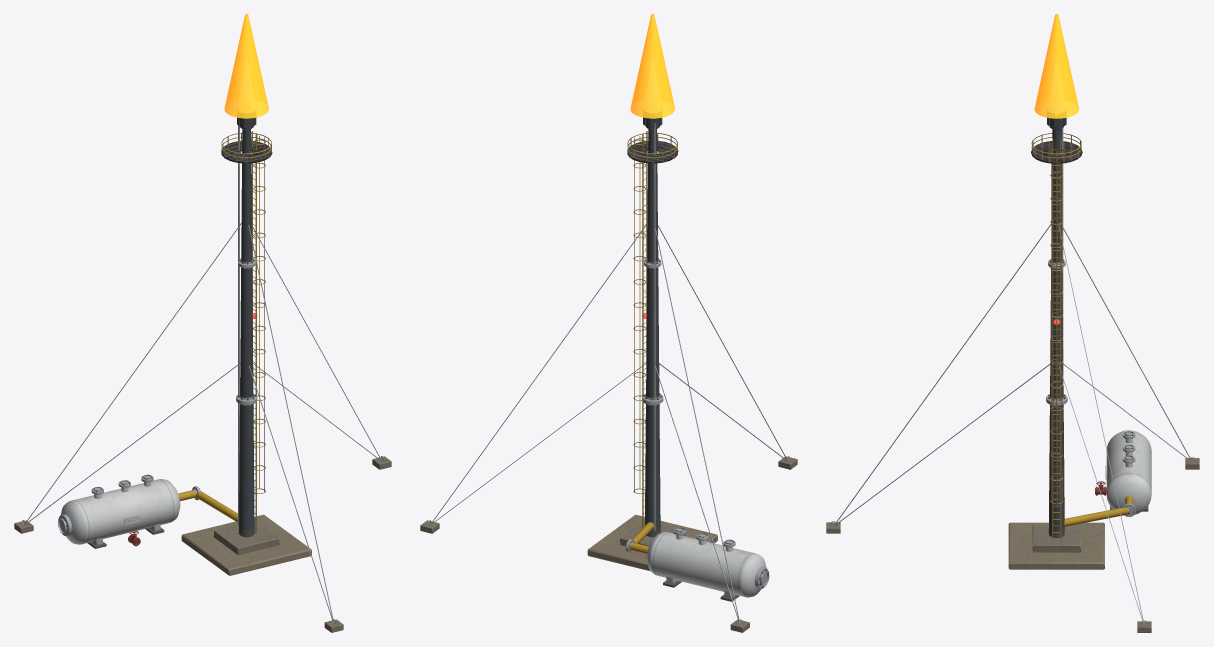
Rendered from flare.glb.
3 renders of one model, left to right at view 1: azimuth 30°, elevation 25°; view 2: azimuth 150°, elevation 25°; view 3: azimuth 270°, elevation 25°, orthographic.
Parts seen in each view (by area): view 1: flare_Body, Flame_Core; view 2: flare_Body, Flame_Core; view 3: flare_Body, Flame_Core.
Part boxes in pixels (x1,y1,x2,y2): flare_Body: (14, 117, 391, 632); Flame_Core: (224, 14, 268, 118); flare_Body: (420, 117, 797, 632); Flame_Core: (630, 14, 674, 118); flare_Body: (826, 117, 1199, 632); Flame_Core: (1034, 14, 1079, 118).
Size of the model in its own units: 4.99 by 7.35 by 4.65.
5 materials, 1 textured.
